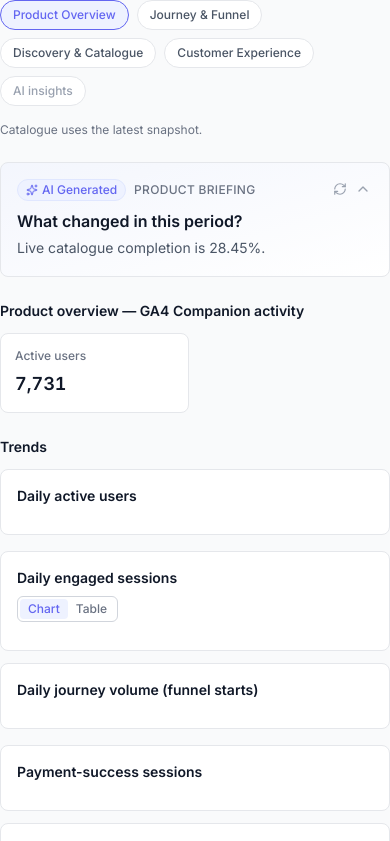
it: Companion Product Health live sections › labels completed/missing products and displays SAP completion with the live AJIO CE context
Click the button "Discovery & Catalogue" at (78, 53), box [0,38,156,68]
(page scrolled)
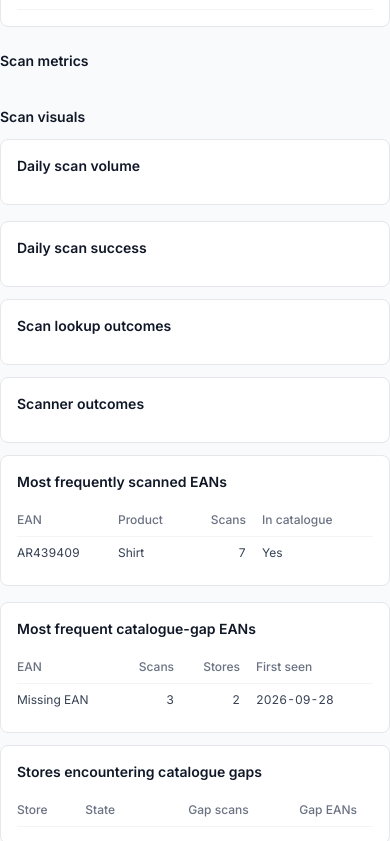
Check: the text "Missing EAN" is shown, box [17,684,126,716]
Check: the text "AR439409" is shown, box [17,536,118,569]
